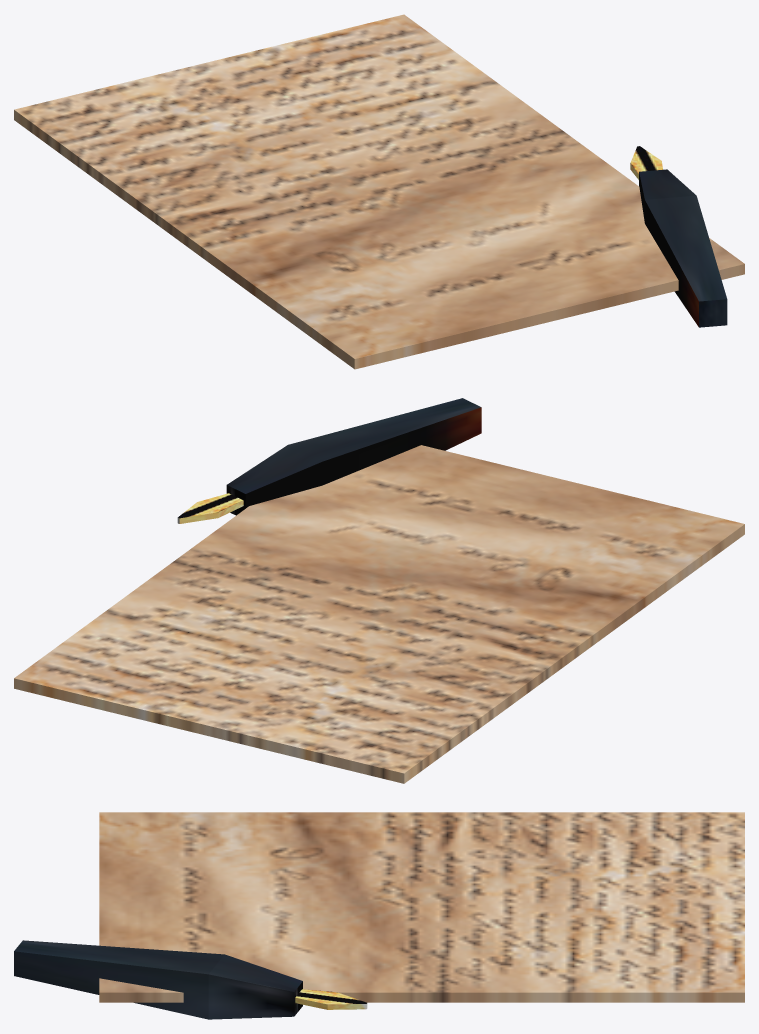
File: Notes_Pen.fbx
3 views of the same model, one above another, from view 1: azimuth 30°, elevation 25°; view 2: azimuth 150°, elevation 25°; view 3: azimuth 270°, elevation 25° (orthographic). The views are drawn at different scales.
Visible parts, largest first — view 1: Note1, Pen; view 2: Note1, Pen; view 3: Note1, Pen.
Boxes of the visible parts, x1,y1,x2,y2 form: Note1: [14, 14, 744, 369]; Pen: [630, 146, 727, 327]; Note1: [14, 445, 744, 783]; Pen: [177, 398, 481, 523]; Note1: [99, 812, 744, 1002]; Pen: [14, 940, 367, 1019].
Bounding box in the file's own units: 37.48 × 4 × 58.61.
